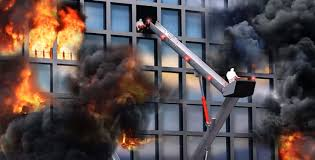fire: (81, 48, 160, 146), (1, 3, 82, 57), (2, 59, 60, 115), (283, 132, 313, 160)
